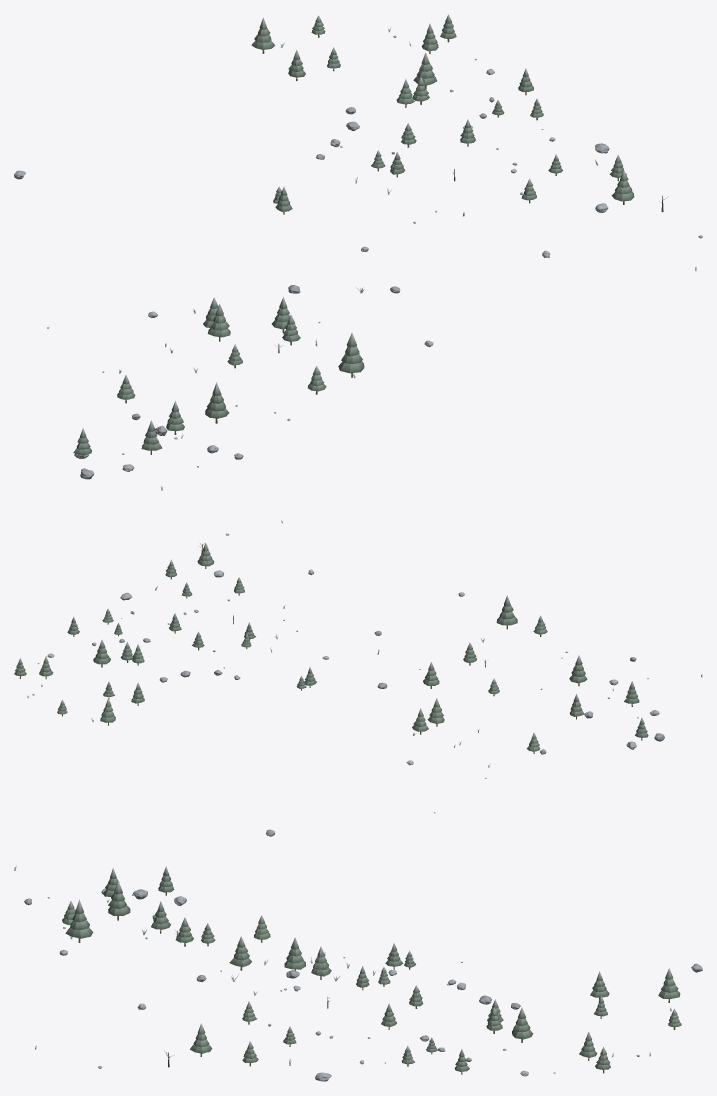
The model's file is frost_land_scatter_c12_11.glb.
3 views of the same model, one above another, from view 1: azimuth 30°, elevation 25°; view 2: azimuth 150°, elevation 25°; view 3: azimuth 270°, elevation 25° (orthographic). The views are drawn at different scales.
Visible parts, largest first — view 1: frost_land_scatter_c12_11; view 2: frost_land_scatter_c12_11; view 3: frost_land_scatter_c12_11.
Part boxes in pixels (<box>): frost_land_scatter_c12_11: <box>14,14,702,490</box>; frost_land_scatter_c12_11: <box>14,520,702,836</box>; frost_land_scatter_c12_11: <box>14,866,702,1081</box>.
Bounding box in the file's own units: 253 × 59.73 × 254.
